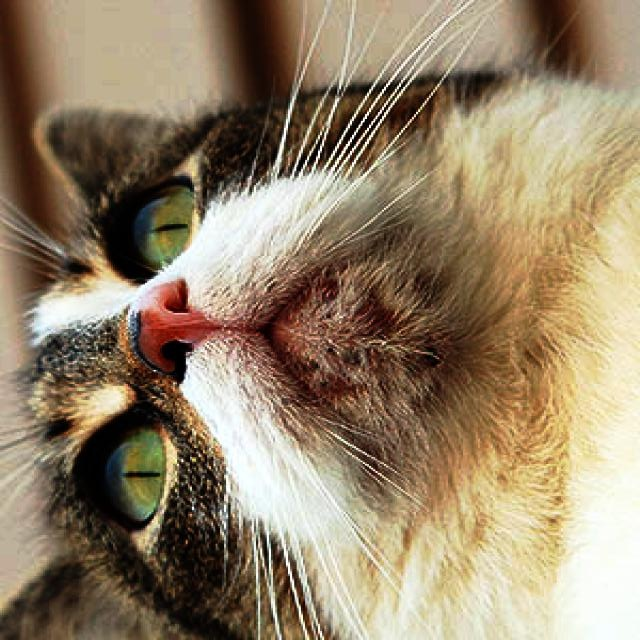acne: (310, 310, 456, 389)
